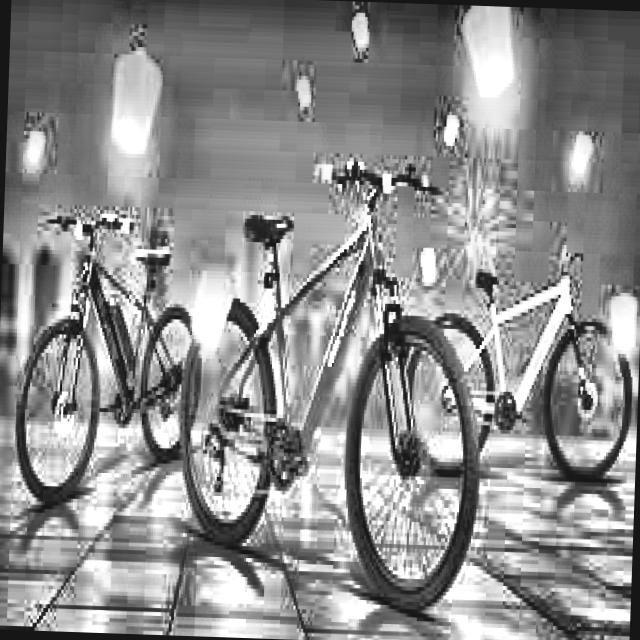bicycle: (170, 136, 490, 616), (10, 185, 207, 514), (410, 244, 638, 497)
